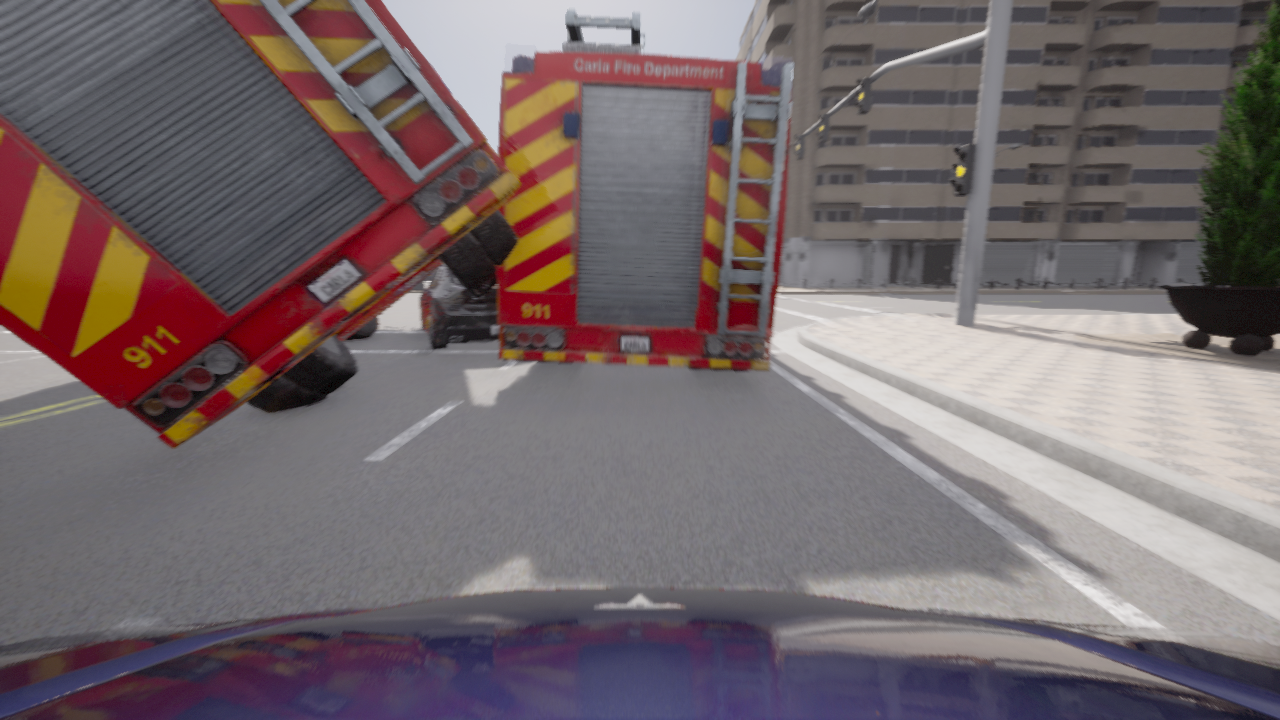cyclist: (0, 588, 1279, 719), (497, 9, 792, 371), (410, 264, 499, 349), (422, 274, 432, 282)
